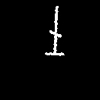double_crochet: (45, 6, 63, 55)
